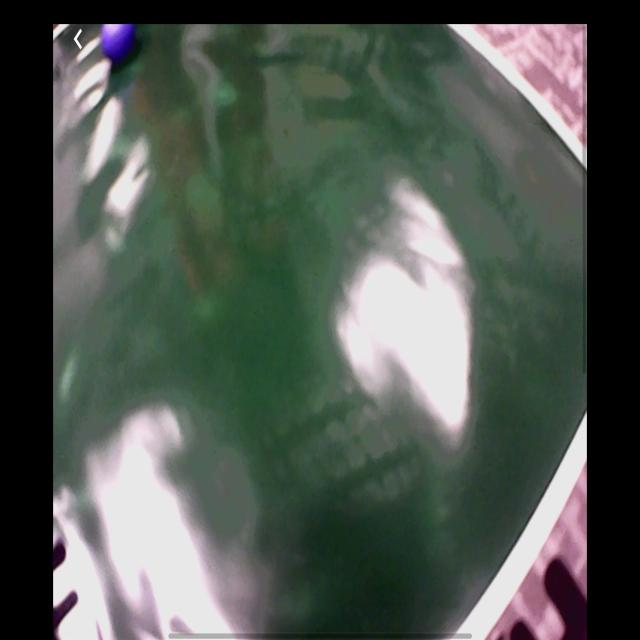ball: (101, 26, 141, 61)
